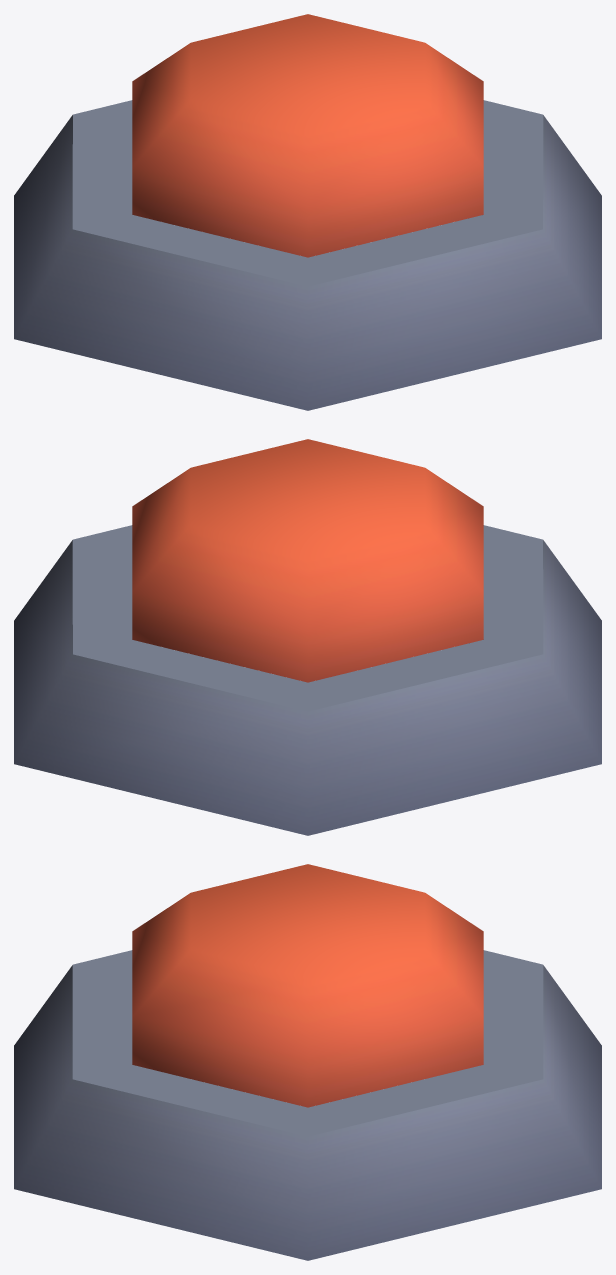
Rendered from kenney-platformer-button-round.glb.
The picture shows the model from 3 angles, top to bottom: view 1: azimuth 30°, elevation 25°; view 2: azimuth 150°, elevation 25°; view 3: azimuth 270°, elevation 25°; orthographic projection.
Parts seen in each view (by area): view 1: button-round, button; view 2: button-round, button; view 3: button-round, button.
Boxes of the visible parts, x1,y1,x2,y2 form: button-round: [14, 100, 601, 410]; button: [132, 14, 483, 257]; button-round: [14, 525, 601, 835]; button: [132, 439, 483, 682]; button-round: [14, 950, 601, 1260]; button: [132, 864, 483, 1107].
Bounding box in the file's own units: 0.58 × 0.185 × 0.5023.
1 material, 1 textured.
